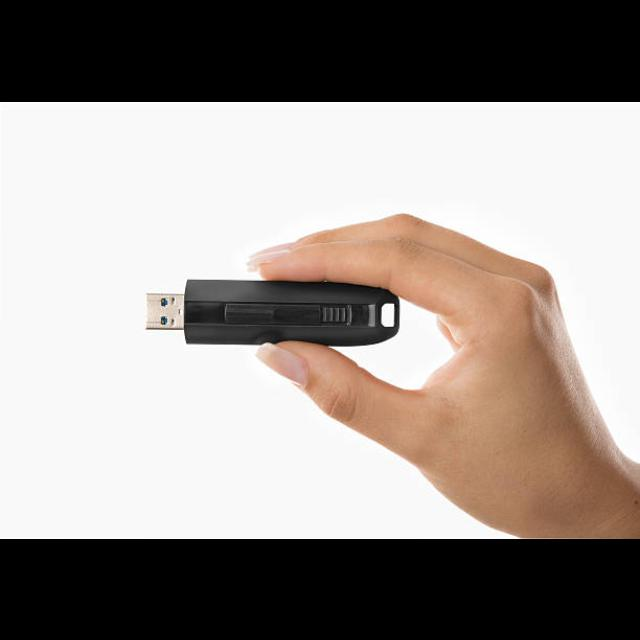USB-Flash-Drive: (144, 278, 402, 348)
